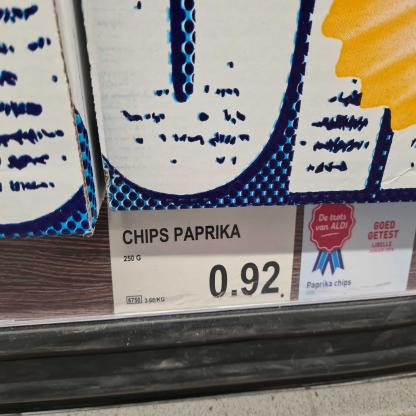prtg: (107, 201, 298, 316)
